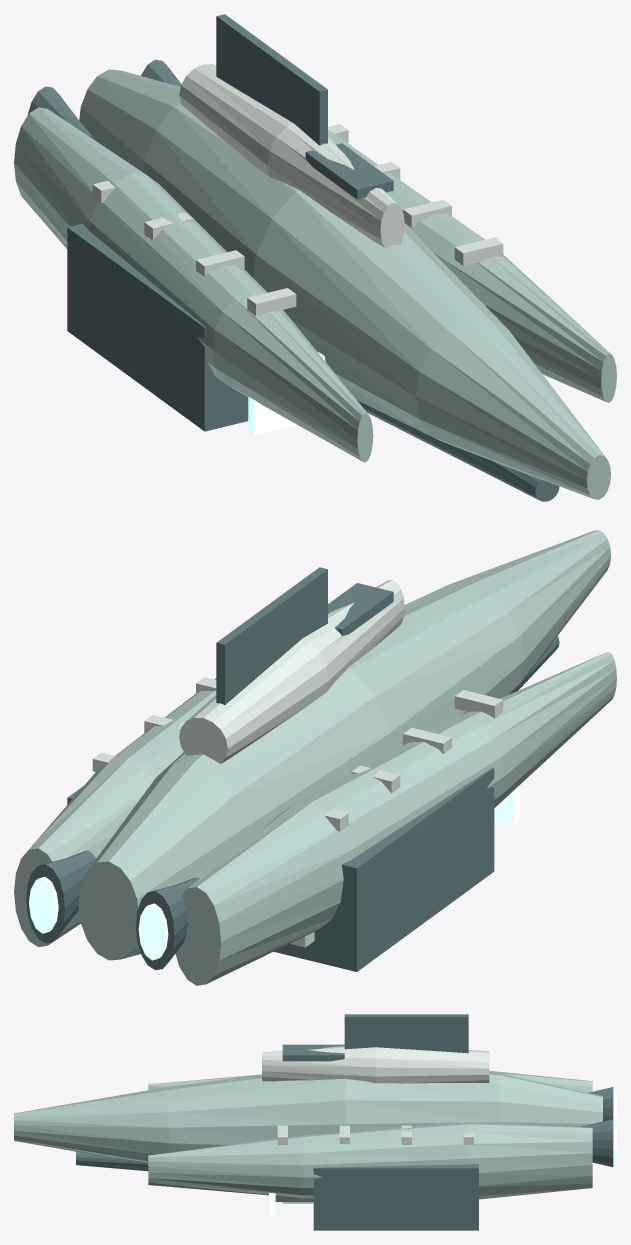
3 views of the same model, one above another, from view 1: azimuth 30°, elevation 25°; view 2: azimuth 150°, elevation 25°; view 3: azimuth 270°, elevation 25° (orthographic). The views are drawn at different scales.
Size of the model in its own units: 5.9 by 5.53 by 17.52.
